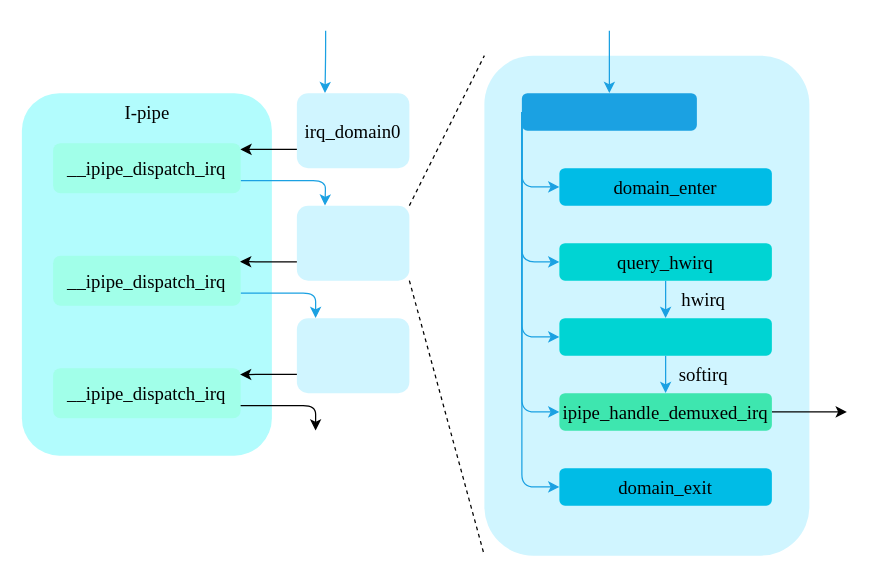
Some shapes in this 879 by 579 pixel diagram are drawn without their labels. Here are the shapes that lost their labels. From the top down, the centre of each, then its label:
At (608,111): "entry_function".
At (352,242): "irq_domain1".
At (352,355): "irq_domain2".
At (665,336): "hwirq_to_softirq".
